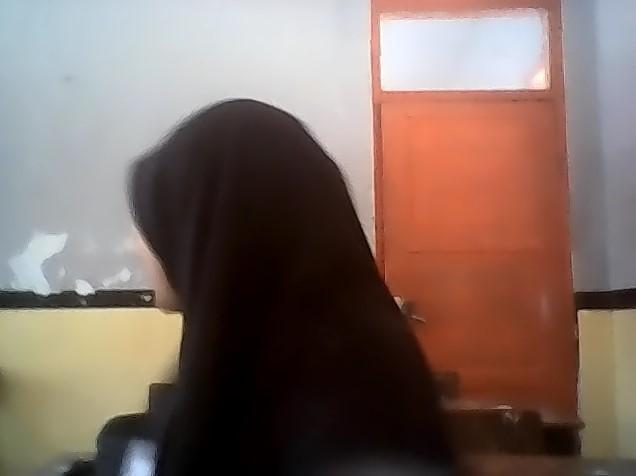cheating: (110, 60, 482, 476)
